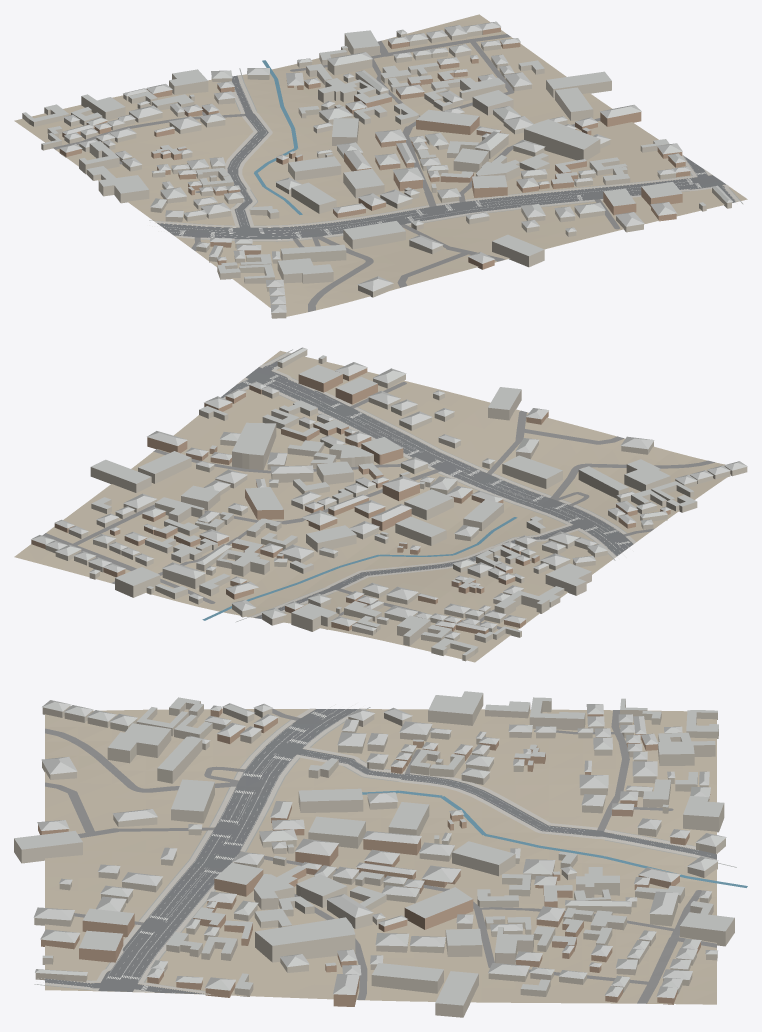
The model's file is bolak_2_1.glb.
The picture shows the model from 3 angles, top to bottom: view 1: azimuth 30°, elevation 25°; view 2: azimuth 150°, elevation 25°; view 3: azimuth 270°, elevation 25°; orthographic projection. The views are drawn at different scales.
Parts seen in each view (by area): view 1: Yer_Tuproq-col, Tom_Shifer, Devor_Suvoq-col, Yol_Asfalt-col, Devor_Gisht-col, Yol_Mahalla-col, Trotuar, Yol_Chiziq, Suv, Ariq; view 2: Yer_Tuproq-col, Tom_Shifer, Devor_Suvoq-col, Yol_Asfalt-col, Devor_Gisht-col, Yol_Mahalla-col, Trotuar, Yol_Chiziq, Suv, Ariq; view 3: Yer_Tuproq-col, Tom_Shifer, Devor_Suvoq-col, Yol_Asfalt-col, Devor_Gisht-col, Yol_Mahalla-col, Trotuar, Yol_Chiziq, Suv, Ariq.
Part boxes in pixels (box(x1,y1,x2,y2)): Yer_Tuproq-col: box(14, 14, 747, 316); Tom_Shifer: box(23, 21, 732, 312); Devor_Suvoq-col: box(22, 29, 731, 318); Yol_Asfalt-col: box(157, 75, 735, 239); Devor_Gisht-col: box(59, 27, 690, 269); Yol_Mahalla-col: box(53, 34, 619, 311); Trotuar: box(154, 75, 739, 240); Yol_Chiziq: box(149, 78, 737, 239); Suv: box(254, 60, 302, 214); Ariq: box(149, 68, 743, 241); Yer_Tuproq-col: box(14, 350, 730, 662); Tom_Shifer: box(31, 347, 747, 655); Devor_Suvoq-col: box(45, 350, 747, 661); Yol_Asfalt-col: box(221, 357, 633, 618); Devor_Gisht-col: box(31, 368, 670, 634); Yol_Mahalla-col: box(42, 382, 715, 629); Trotuar: box(223, 352, 635, 618); Yol_Chiziq: box(240, 363, 633, 607); Suv: box(202, 517, 517, 620); Ariq: box(235, 349, 626, 622); Yer_Tuproq-col: box(45, 709, 716, 1004); Tom_Shifer: box(14, 691, 734, 1005); Devor_Suvoq-col: box(14, 694, 734, 1017); Yol_Asfalt-col: box(45, 709, 716, 994); Devor_Gisht-col: box(38, 708, 710, 1006); Yol_Mahalla-col: box(45, 708, 716, 1003); Trotuar: box(45, 708, 716, 994); Yol_Chiziq: box(36, 703, 710, 994); Suv: box(362, 790, 747, 887); Ariq: box(34, 707, 736, 991).
Size of what is drawn, in the model's own units: 431 by 21.22 by 437.
